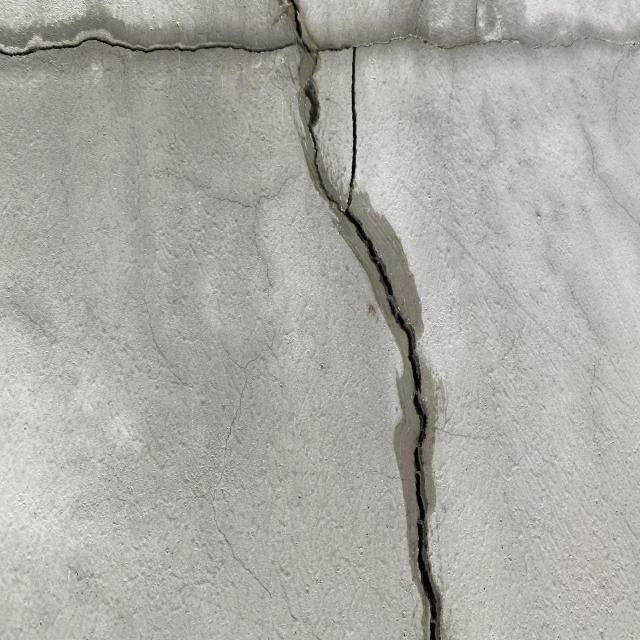SurfaceCrack: (257, 3, 479, 639), (0, 1, 318, 87)
